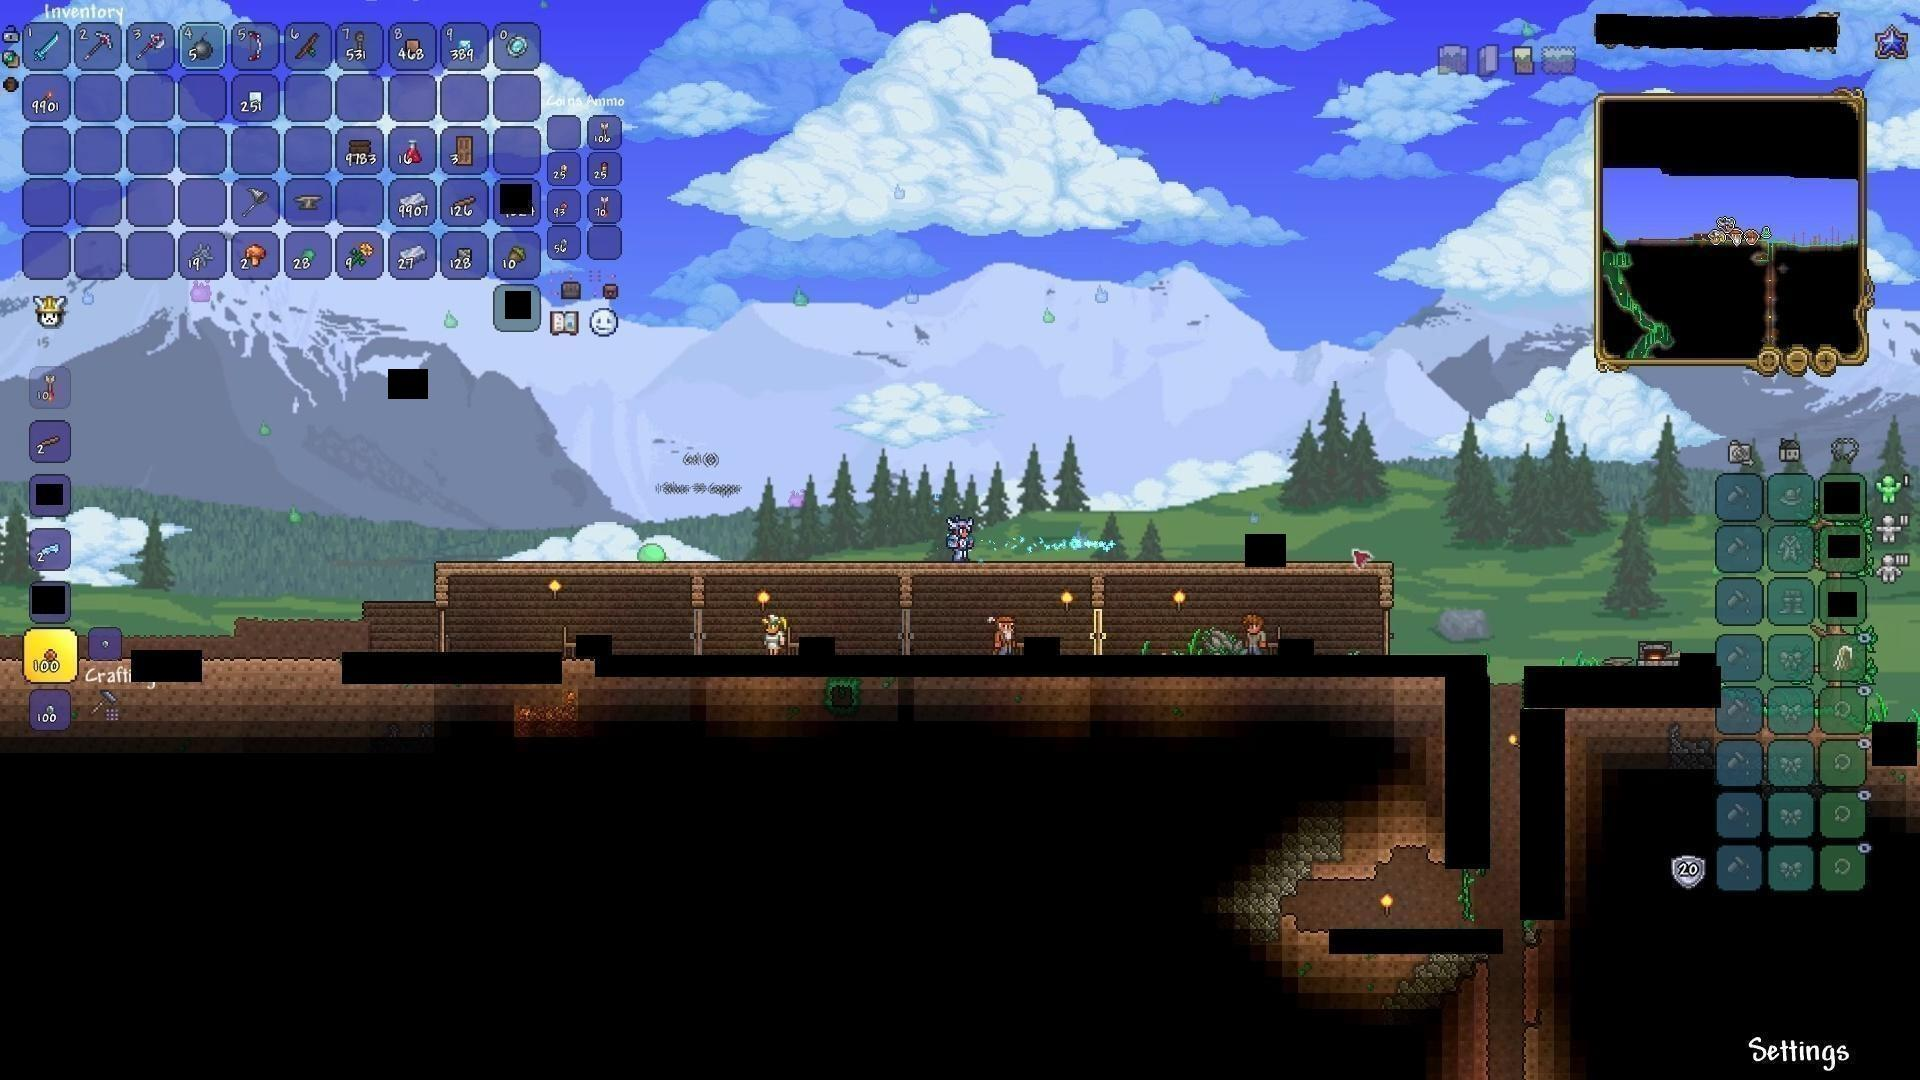slime: (633, 539, 669, 564)
